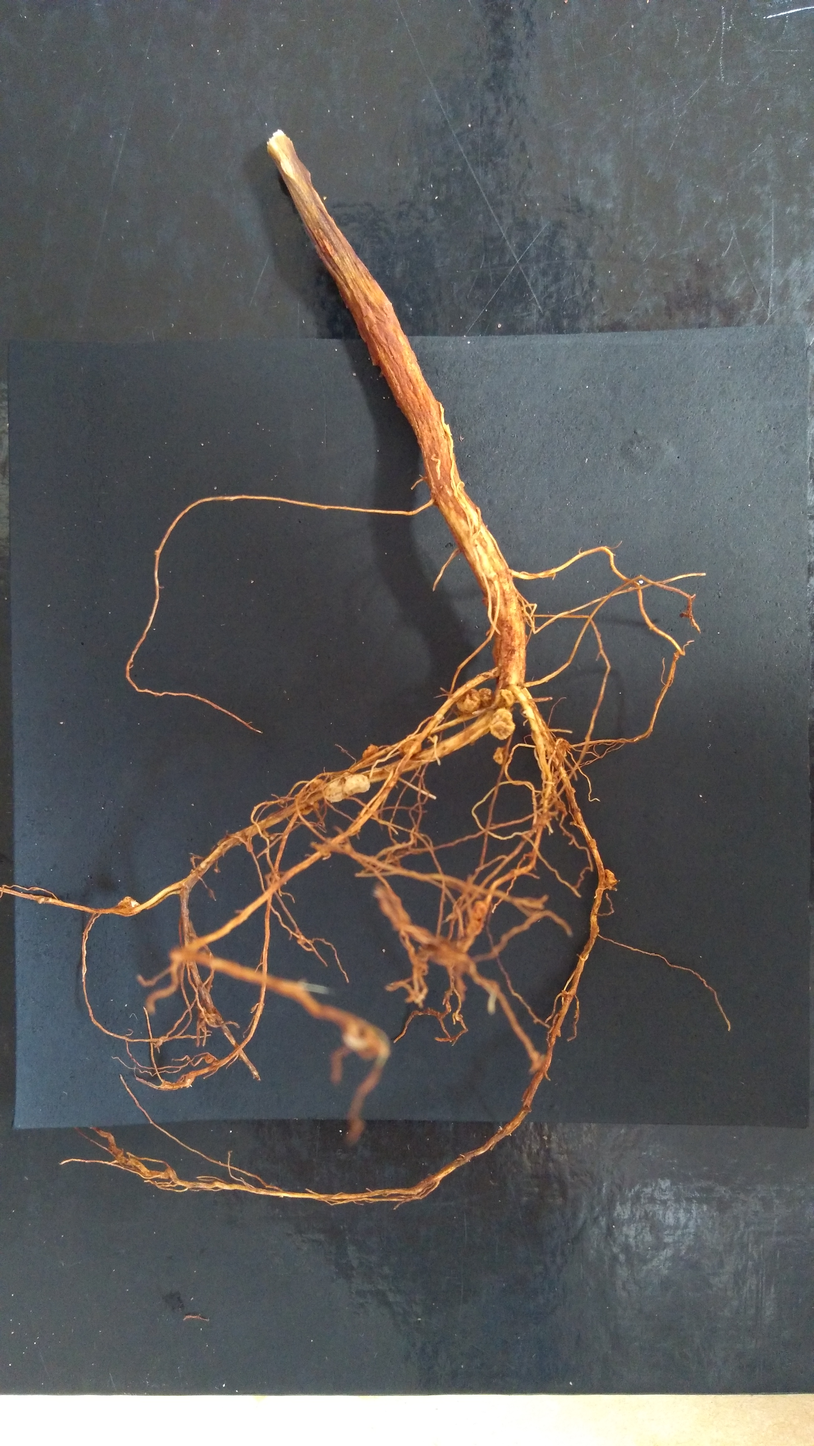nodule: (487, 706, 517, 742), (455, 686, 482, 716), (321, 780, 351, 804), (342, 773, 370, 797), (115, 894, 142, 918), (397, 738, 423, 759), (477, 686, 497, 710), (469, 899, 488, 920), (360, 742, 381, 760), (498, 686, 516, 707), (603, 866, 618, 888), (491, 745, 505, 766), (466, 919, 483, 936), (204, 1053, 214, 1065)
